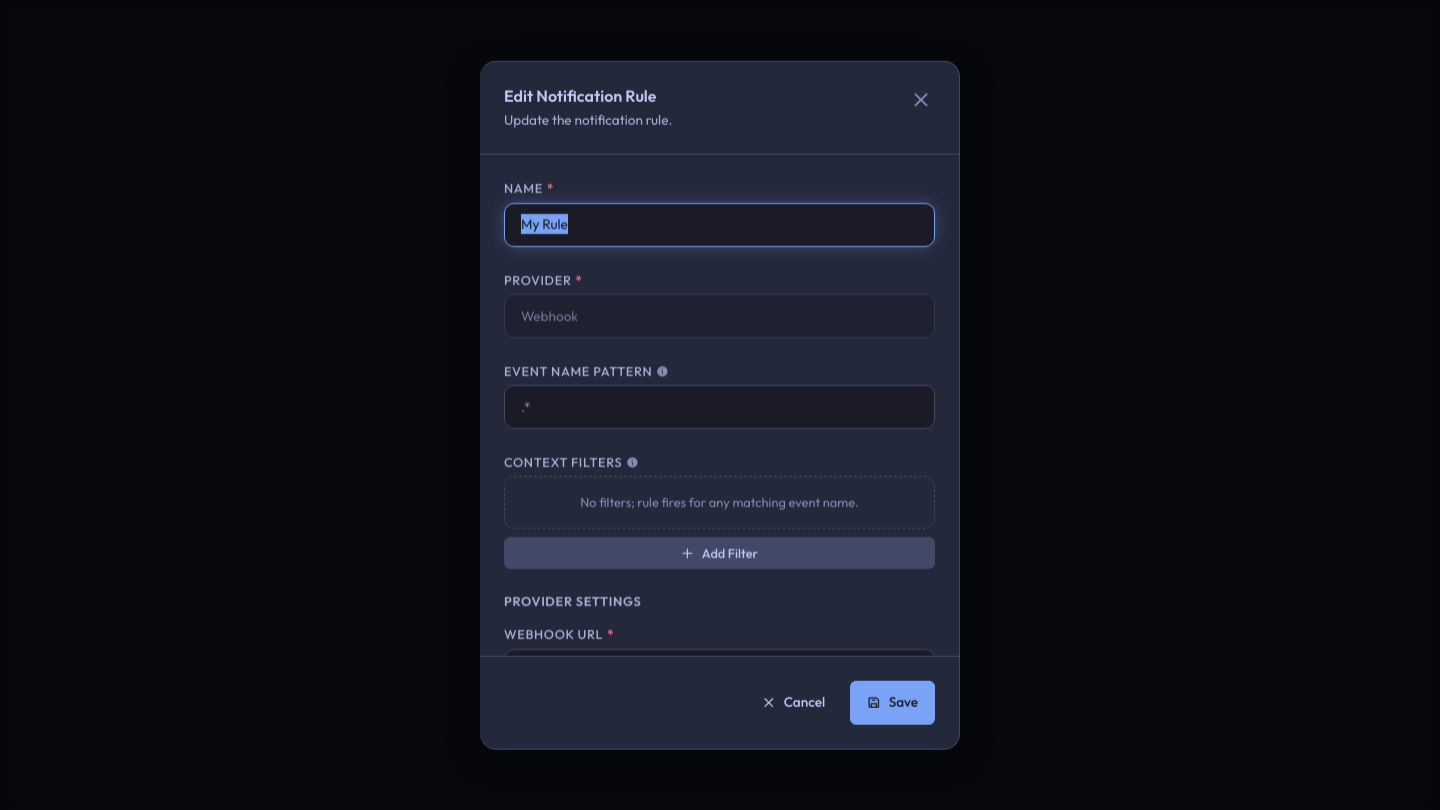
Scenario: NotificationRuleForm › context-filter dirty baseline › becomes dirty after filling a context-filter key
Click the button "Add Filter". click: (720,553)
box: [504, 537, 935, 569]
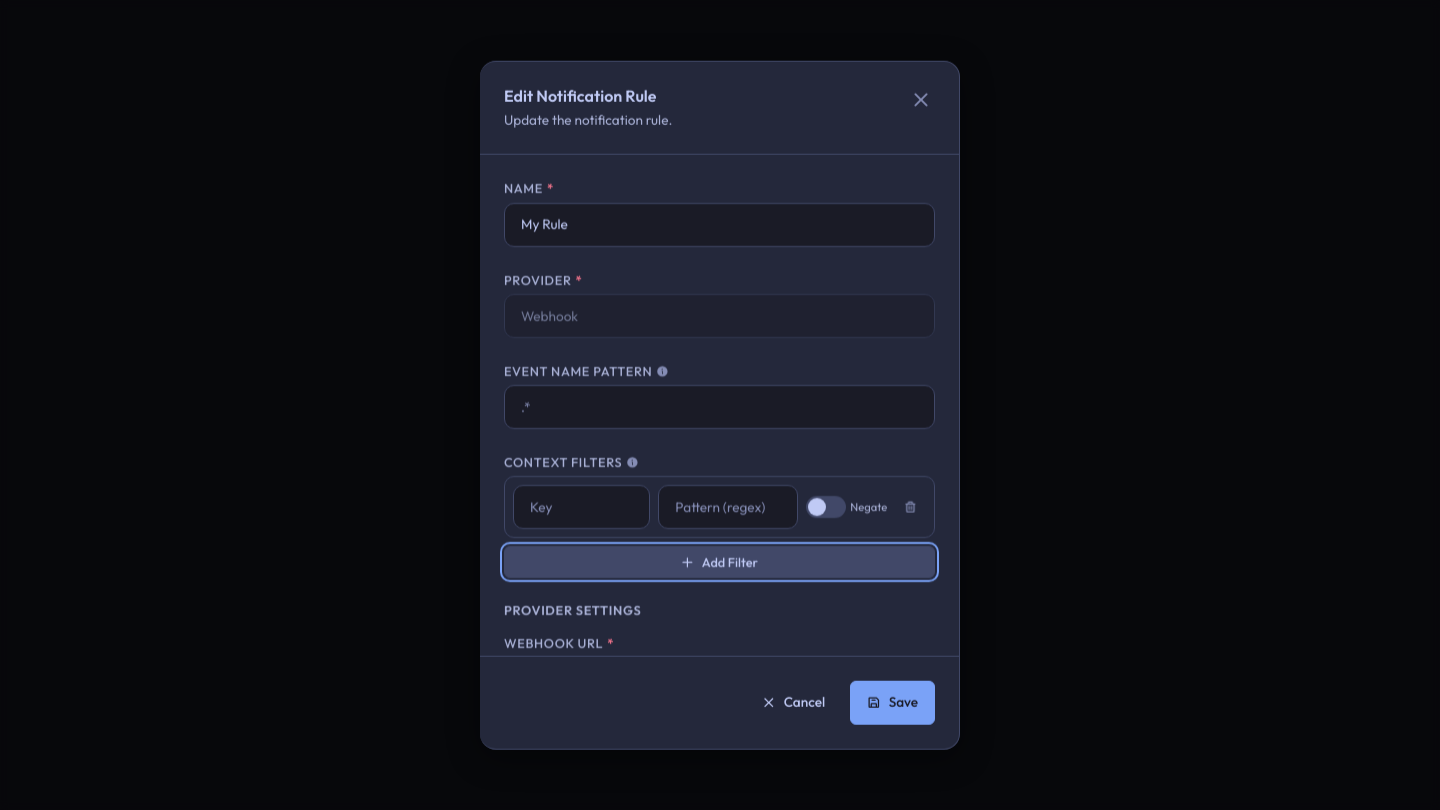
Type "contentType" into the field named "filter 1 key". click: (582,507)
box: [514, 489, 649, 525]
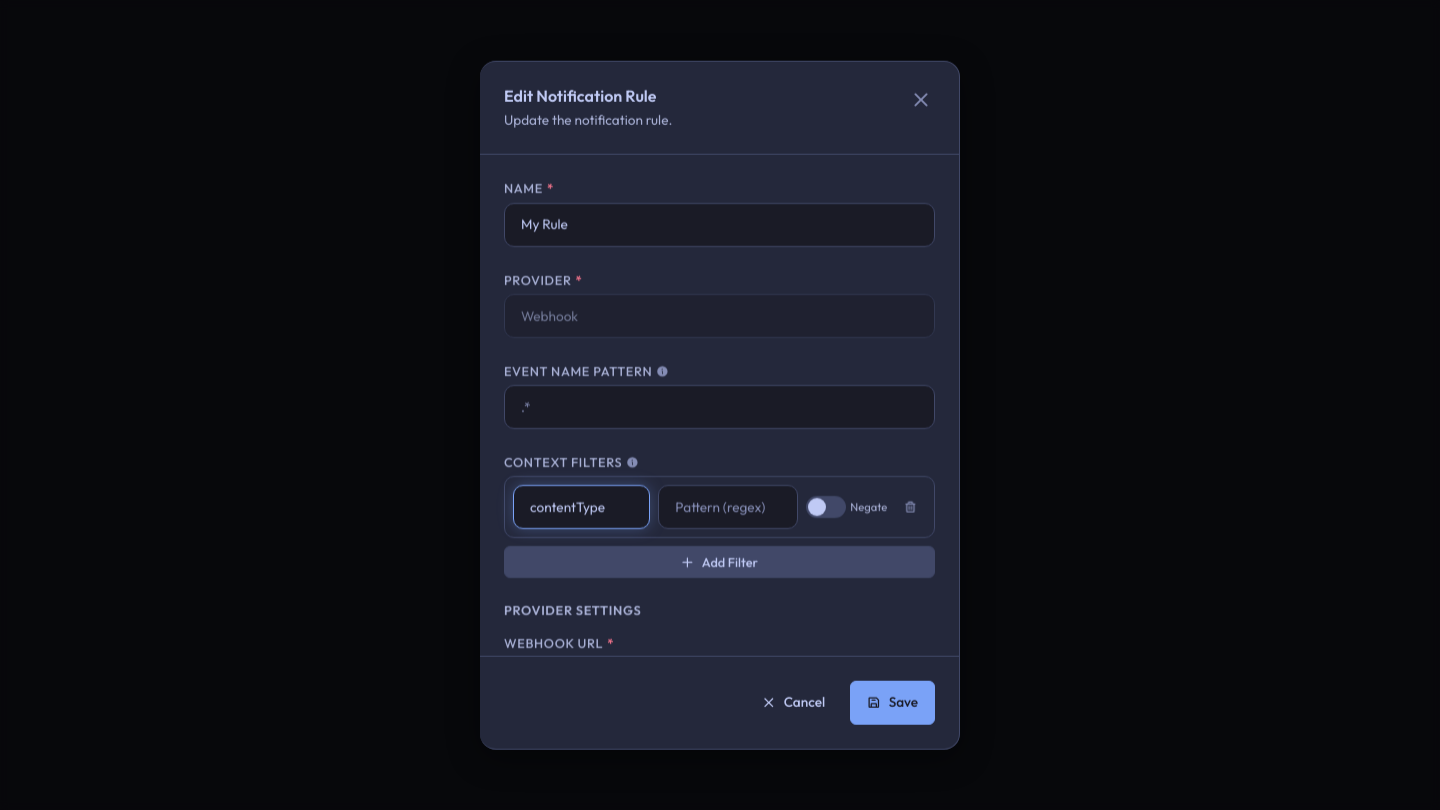
Click the button "Cancel". click: (794,702)
box: [745, 680, 842, 724]
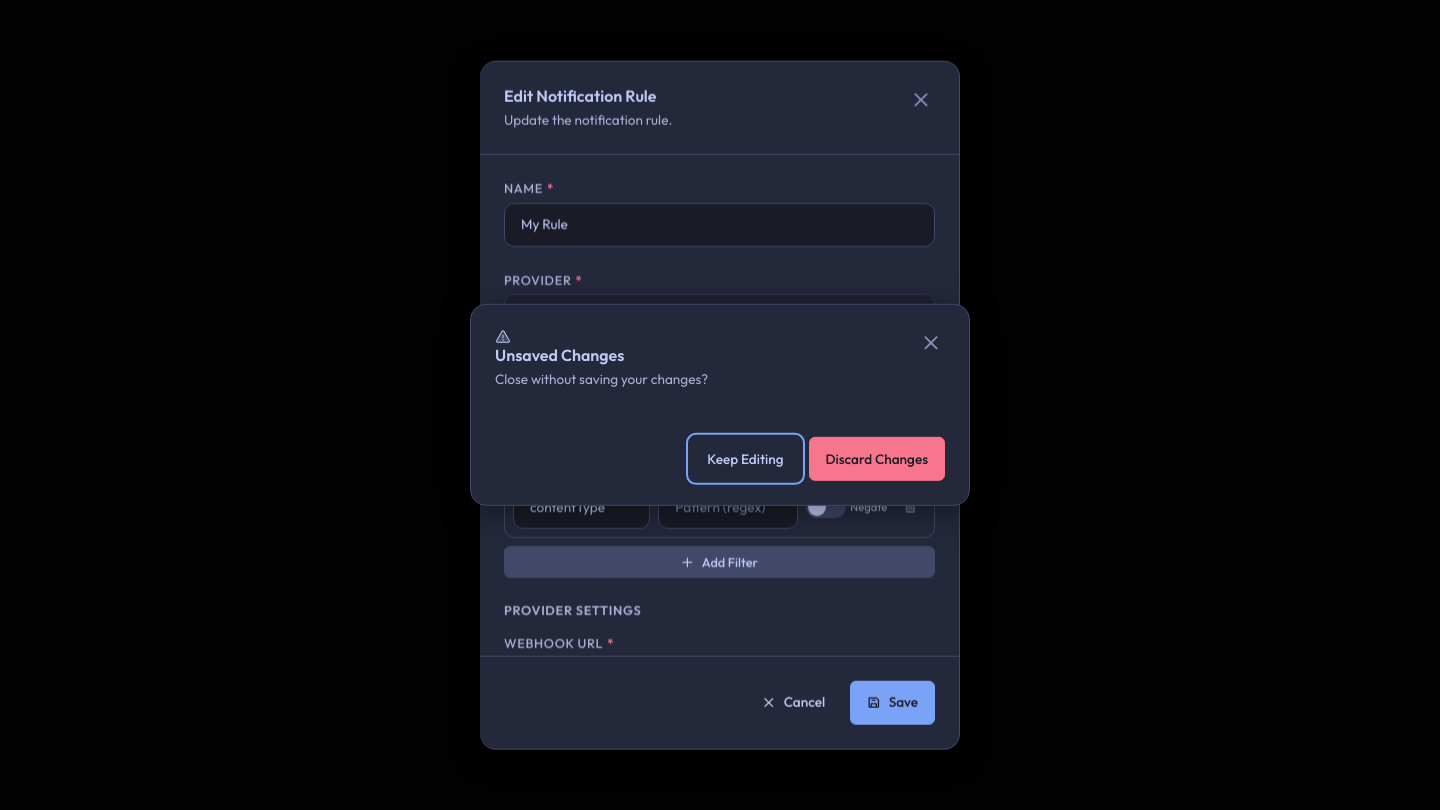
Result: the heading "Unsaved Changes" is shown at [495, 329, 624, 365]
